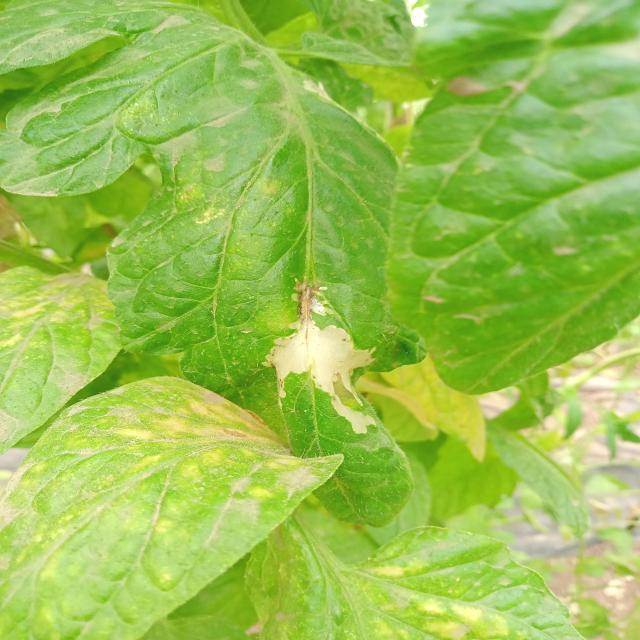Tuta absoluta: (252, 285, 417, 442)
